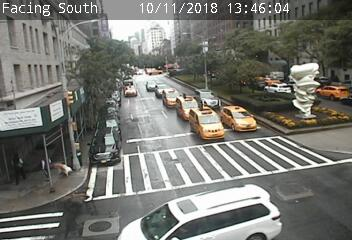car: (91, 127, 121, 165), (189, 107, 223, 140), (220, 106, 257, 133), (175, 96, 200, 120), (195, 89, 221, 111), (316, 85, 349, 101), (161, 89, 183, 108), (264, 83, 291, 96), (258, 77, 281, 87), (249, 80, 268, 90), (155, 84, 169, 97), (145, 80, 157, 91), (124, 86, 137, 96)
